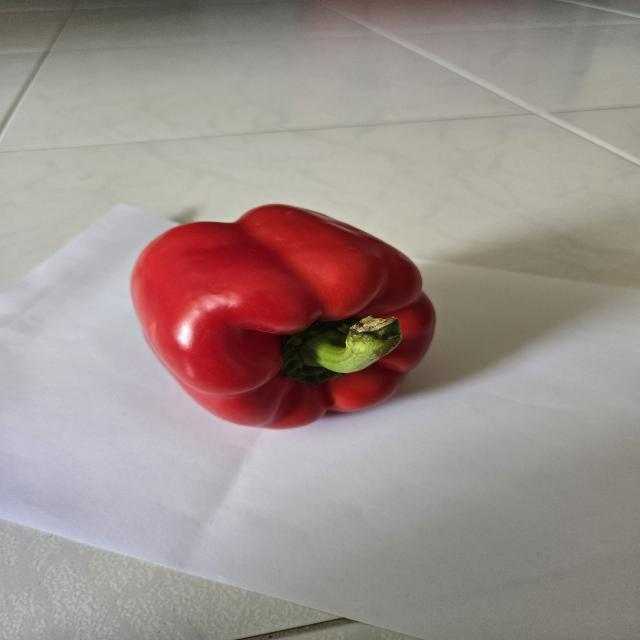bell-pepper: (122, 190, 445, 447)
